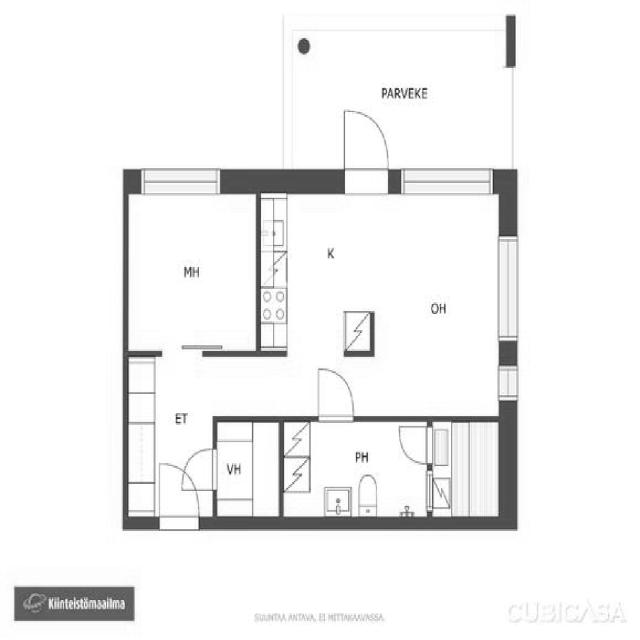door: (336, 105, 395, 198), (153, 454, 205, 531), (313, 362, 357, 424), (176, 445, 222, 492), (395, 420, 434, 469)
window: (393, 157, 503, 203), (139, 162, 223, 193), (497, 228, 518, 341), (504, 54, 520, 166), (495, 356, 522, 416)
zone: (370, 187, 507, 421), (126, 186, 262, 354), (260, 190, 374, 357), (279, 418, 430, 520), (428, 418, 504, 524), (214, 419, 282, 522)
